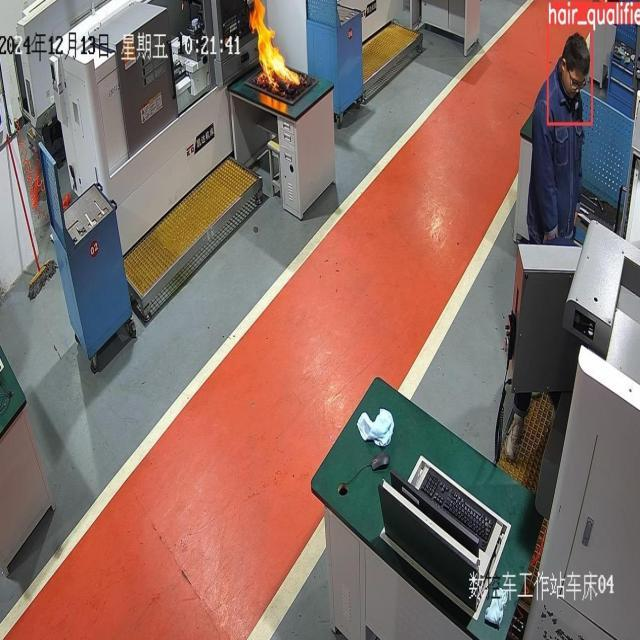smoke: (247, 0, 300, 98), (62, 190, 71, 212)
